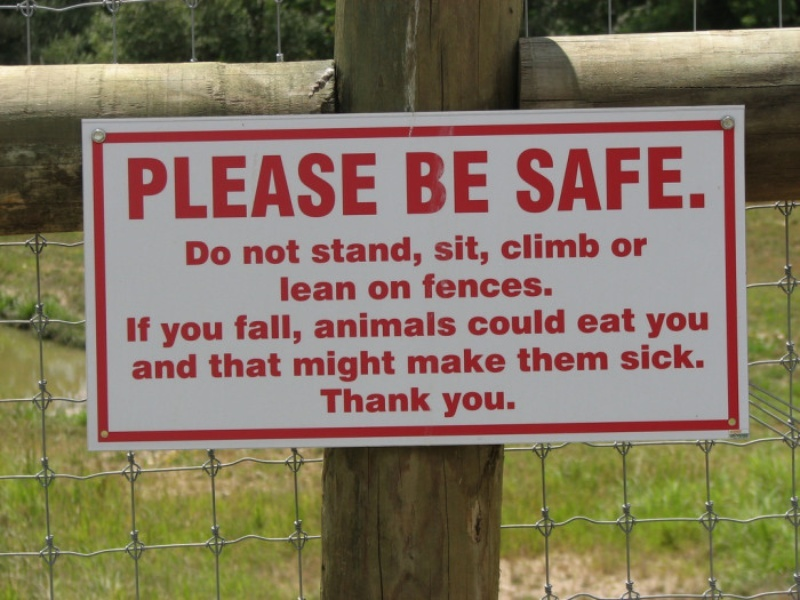text: (129, 150, 144, 222), (145, 150, 160, 222), (161, 150, 176, 222), (177, 150, 192, 222), (193, 150, 208, 222), (209, 150, 224, 222), (225, 150, 240, 222), (241, 150, 256, 222), (257, 150, 272, 222), (273, 150, 288, 222), (289, 150, 304, 222), (305, 150, 320, 222), (321, 150, 336, 222), (337, 150, 352, 222), (353, 150, 368, 222), (529, 145, 544, 214), (545, 145, 560, 214), (561, 145, 576, 214), (577, 145, 592, 214), (593, 145, 608, 214), (609, 145, 624, 214), (625, 145, 640, 214), (641, 145, 656, 214), (657, 145, 672, 214), (673, 145, 688, 214), (689, 145, 704, 214), (417, 149, 432, 214), (433, 149, 448, 214), (449, 149, 464, 214), (465, 149, 480, 214), (514, 145, 528, 214), (405, 149, 416, 214), (369, 150, 378, 222), (481, 149, 490, 214), (241, 310, 256, 345), (257, 310, 272, 345), (273, 310, 288, 345), (321, 235, 336, 268), (337, 235, 352, 268), (353, 235, 368, 268), (369, 235, 384, 268), (385, 235, 400, 268), (401, 235, 416, 268), (305, 349, 320, 382), (321, 349, 336, 382), (337, 349, 352, 382), (353, 349, 368, 382), (369, 349, 384, 382), (449, 234, 464, 266), (465, 234, 480, 266), (689, 342, 705, 371), (289, 310, 302, 345), (321, 310, 336, 340), (337, 310, 352, 340), (353, 310, 368, 340), (369, 310, 384, 340), (385, 310, 400, 340), (401, 310, 416, 340), (417, 310, 432, 340), (433, 310, 448, 340), (434, 234, 448, 266), (513, 231, 528, 260), (529, 231, 544, 260), (545, 231, 560, 260), (561, 231, 576, 260), (577, 231, 592, 260), (481, 308, 496, 337), (497, 308, 512, 337), (513, 308, 528, 337), (529, 308, 544, 337), (545, 308, 560, 337), (625, 342, 640, 371), (641, 342, 656, 371), (657, 342, 672, 371), (673, 342, 688, 371), (593, 346, 609, 373), (257, 239, 272, 267), (273, 239, 288, 267), (433, 271, 448, 299), (449, 271, 464, 299), (465, 271, 480, 299), (481, 271, 496, 299), (497, 271, 512, 299), (513, 271, 528, 299), (529, 271, 544, 299), (657, 311, 672, 339), (673, 311, 688, 339), (689, 311, 704, 339), (209, 351, 224, 379), (225, 351, 240, 379), (241, 351, 256, 379), (257, 351, 272, 379), (129, 315, 144, 342), (593, 307, 608, 334), (609, 307, 624, 334), (145, 353, 160, 380), (161, 353, 176, 380), (177, 353, 192, 380), (529, 346, 544, 373), (545, 346, 560, 373), (561, 346, 576, 373), (577, 346, 592, 373), (449, 391, 464, 418), (465, 391, 480, 418), (481, 391, 496, 418), (497, 391, 512, 418), (161, 322, 176, 348), (177, 322, 192, 348), (193, 322, 208, 348), (193, 241, 208, 267), (209, 241, 224, 267), (289, 276, 304, 302), (305, 276, 320, 302), (321, 276, 336, 302), (337, 276, 352, 302), (417, 348, 432, 374), (433, 348, 448, 374), (449, 348, 464, 374), (465, 348, 480, 374), (481, 348, 496, 374), (321, 387, 336, 413), (337, 387, 352, 413), (353, 387, 368, 413), (369, 387, 384, 413), (385, 387, 400, 413), (401, 387, 416, 413), (578, 307, 592, 334), (243, 239, 256, 267), (309, 235, 320, 268), (293, 349, 304, 382), (385, 349, 396, 382), (468, 308, 480, 337), (209, 322, 222, 348), (417, 387, 430, 413), (625, 236, 640, 258), (369, 278, 384, 300), (385, 278, 400, 300), (132, 353, 144, 380), (516, 346, 528, 373), (501, 231, 512, 260), (289, 239, 300, 267), (610, 236, 624, 258), (421, 271, 432, 299), (645, 311, 656, 339), (625, 307, 636, 334), (311, 310, 320, 340), (449, 310, 458, 340), (481, 234, 489, 266), (273, 351, 282, 379), (279, 276, 288, 302), (407, 348, 416, 374), (497, 348, 506, 374), (545, 271, 553, 299), (401, 278, 411, 300), (234, 310, 240, 345), (593, 231, 599, 260), (417, 235, 422, 268), (145, 315, 151, 342), (442, 391, 448, 418), (186, 241, 192, 267), (225, 241, 231, 267), (619, 342, 624, 371), (126, 150, 128, 222), (641, 236, 647, 258), (561, 308, 565, 337), (705, 311, 709, 339), (193, 353, 197, 380), (513, 391, 516, 418), (353, 276, 356, 302), (705, 145, 706, 214), (126, 315, 128, 342), (159, 322, 160, 348), (319, 387, 320, 413), (367, 278, 368, 300)
